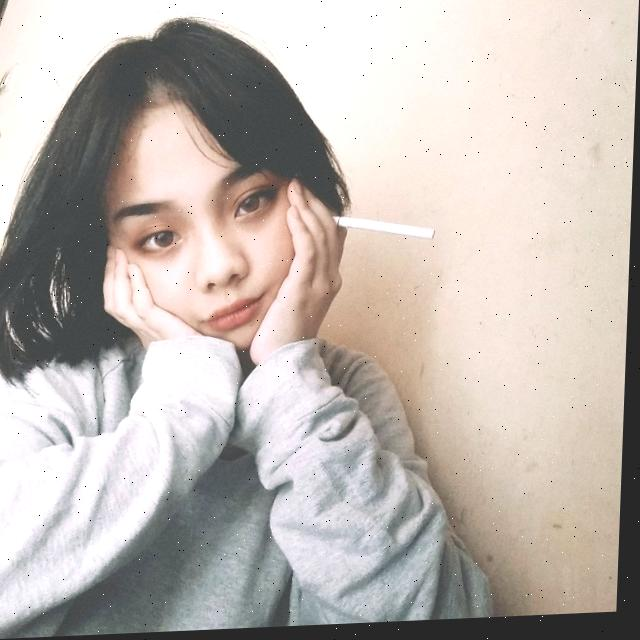cigarette: (334, 215, 438, 248)
